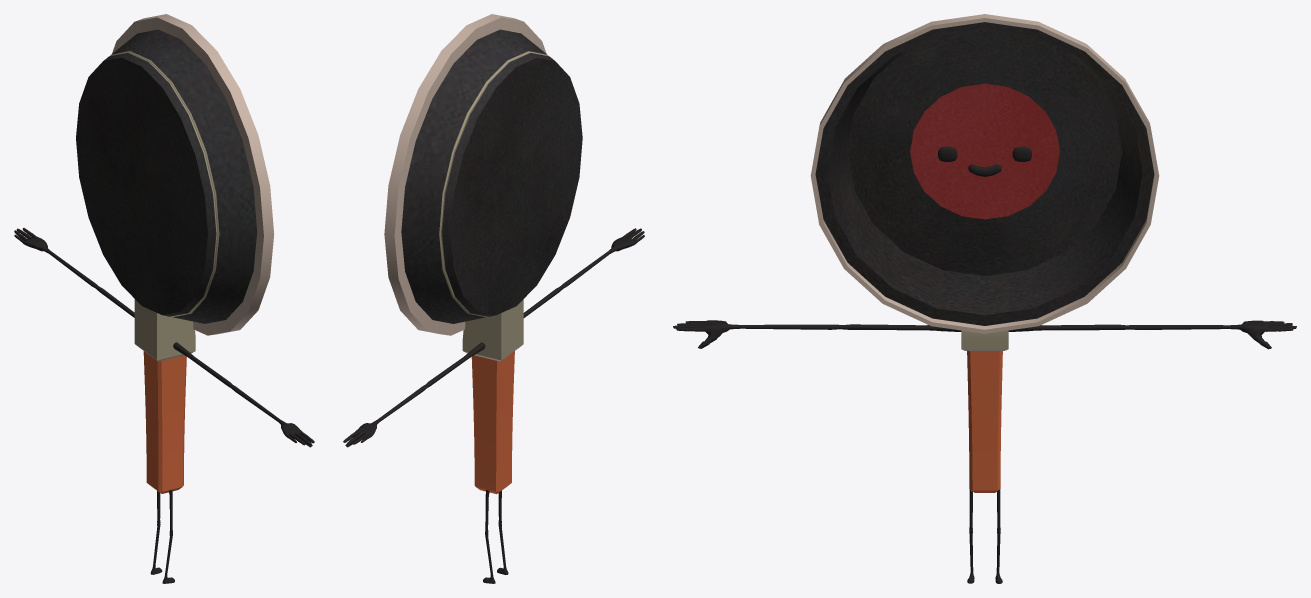
The model's file is Pan character.glb.
3 views of the same model, side by side, from view 1: azimuth 30°, elevation 25°; view 2: azimuth 150°, elevation 25°; view 3: azimuth 270°, elevation 25° (orthographic). The views are drawn at different scales.
Parts seen in each view (by area): view 1: _100Avatars_142_CoolPan; view 2: _100Avatars_142_CoolPan; view 3: _100Avatars_142_CoolPan.
Part boxes in pixels (x1,y1,x2,y2): _100Avatars_142_CoolPan: [14, 14, 314, 583]; _100Avatars_142_CoolPan: [343, 14, 644, 583]; _100Avatars_142_CoolPan: [673, 14, 1296, 583].
Size of the model in its own units: 0.6562 by 6.72 by 6.57.
Materials: 1 (1 with a texture image).
